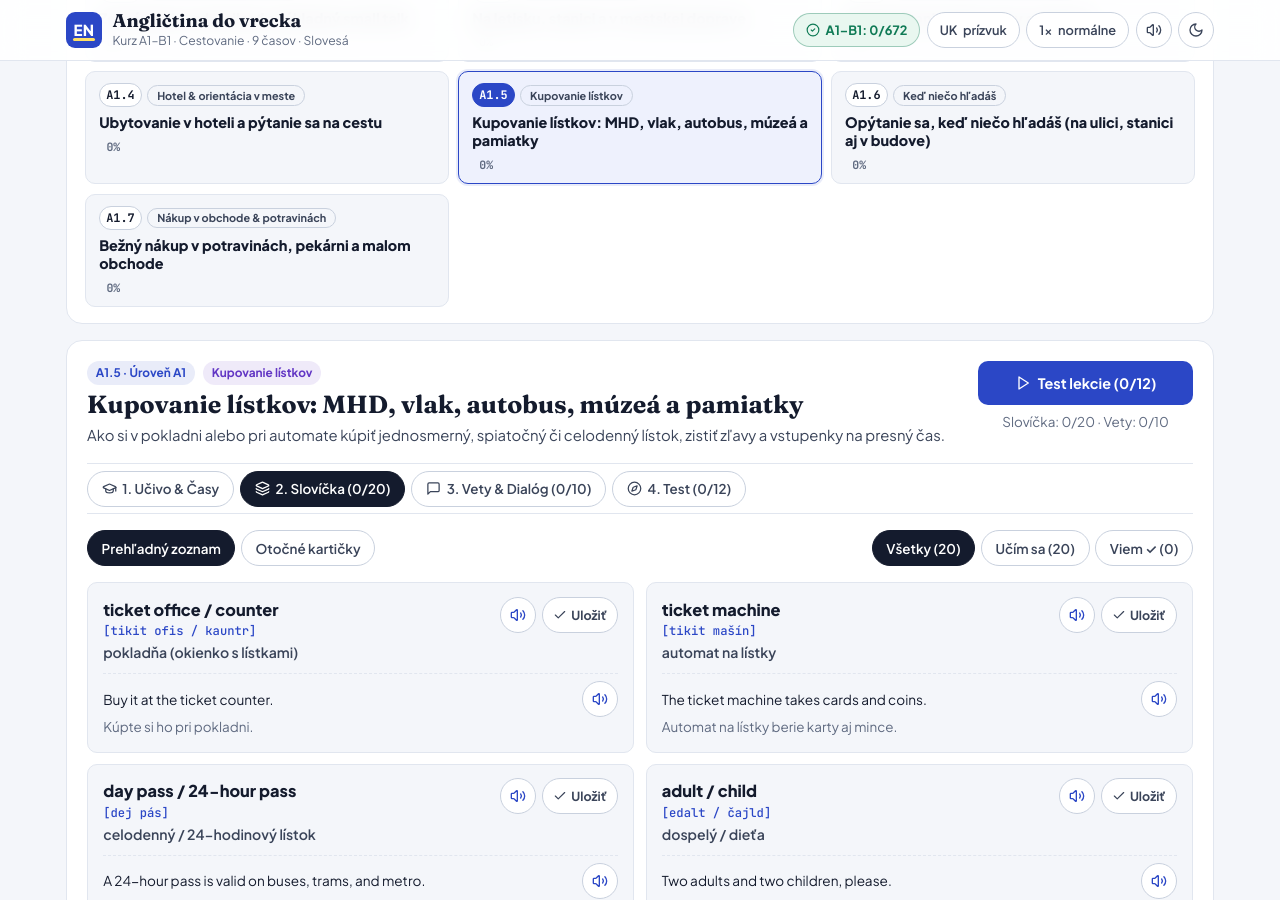
Test case: App UI Integration › updates topbar counters live across A1-B1 course, Tense tests, and persists progress in localStorage
The image size is (1280, 900).
Earlier steps of the test are not shown.
Later steps or results of the test are not shown.
(page scrolled)
Click the button "Uložiť" in the row of "ticket office / counter" at [580, 615], box [542,597,618,633]
(page scrolled)
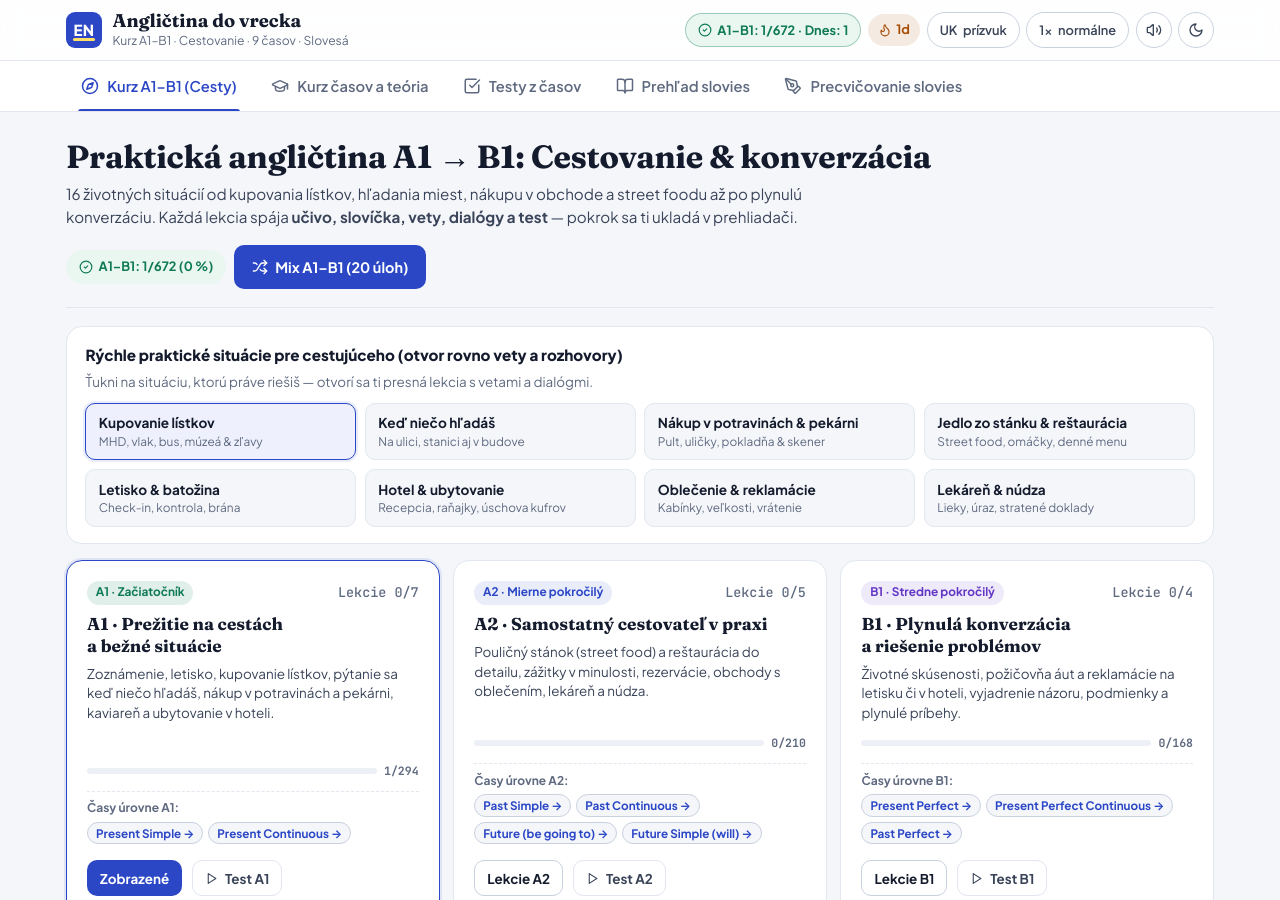
Expected: the button named "Praktický kurz A1 až B1: 1 z 672 položiek. Dnes vyriešených úloh: 1" is shown, [685,13,861,47]
Click the tab "Testy z časov" at [522, 86], box [448,61,596,111]
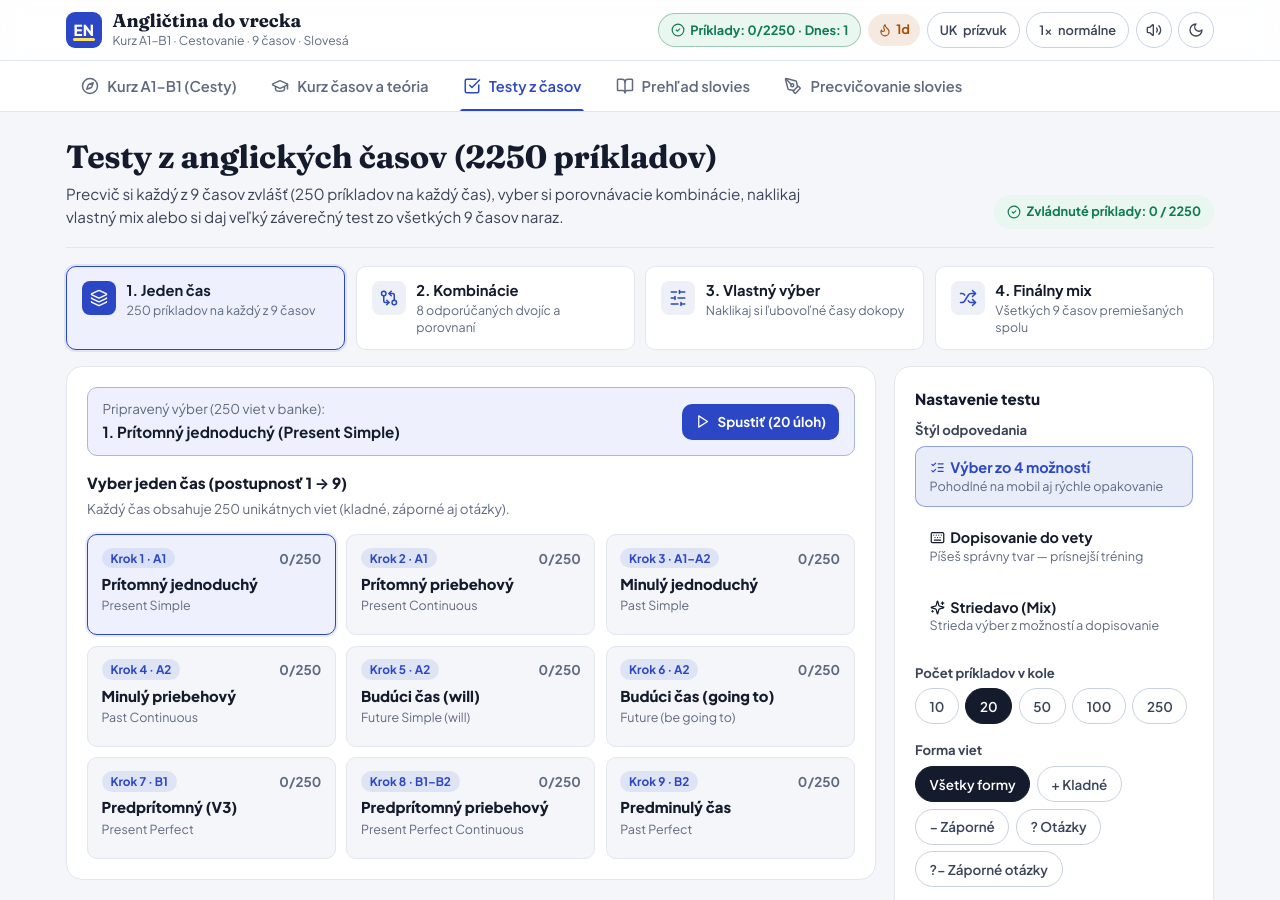
Expected: the button with aria-label "Zvládnuté príklady z časov: 0 z 2250" is shown, [658,13,861,47]
Click the button "10" at [937, 706], box [915,688,959,724]
(page scrolled)
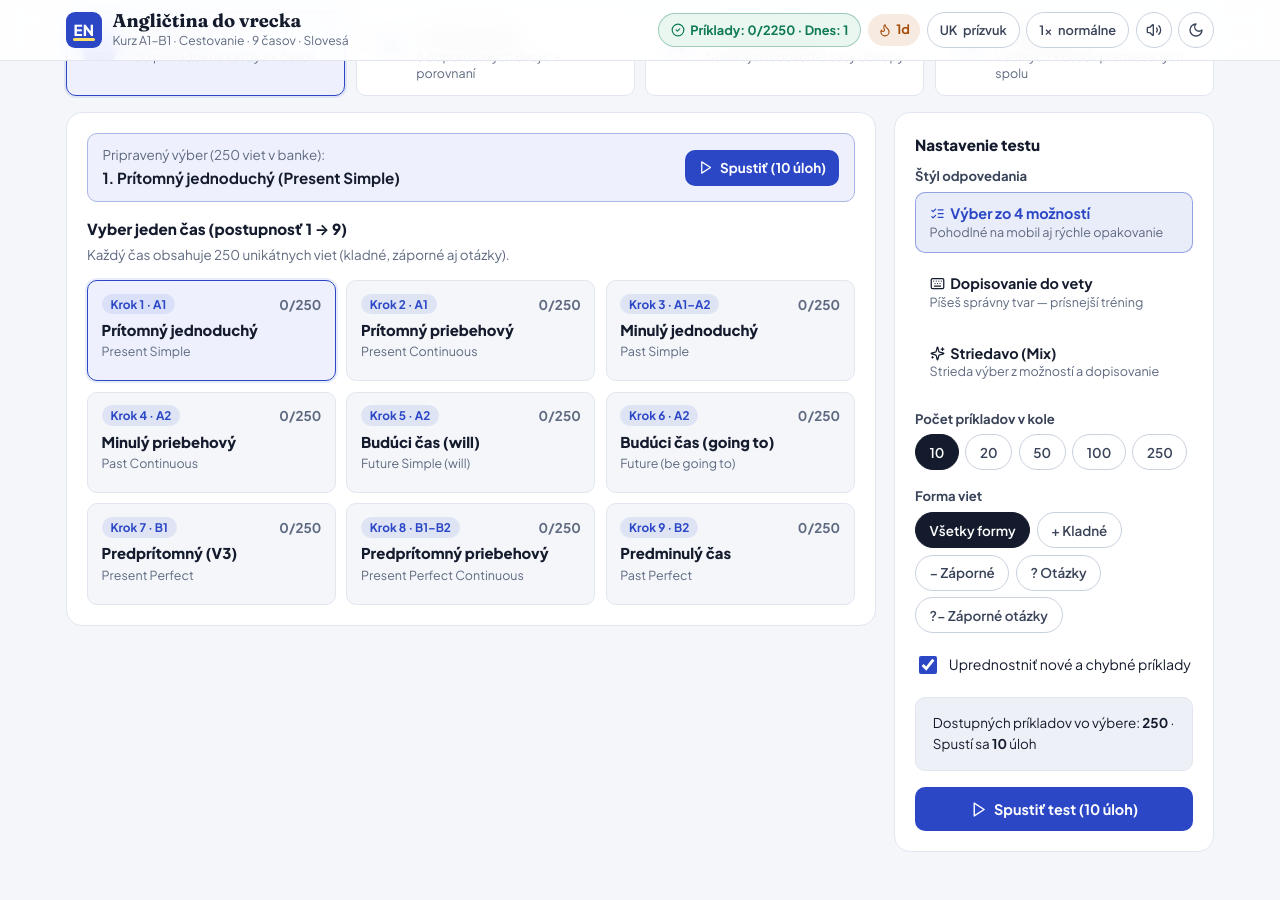
Click the button "Spustiť test (10 úloh)" at [1054, 809], box [915,787,1193,831]
(page scrolled)
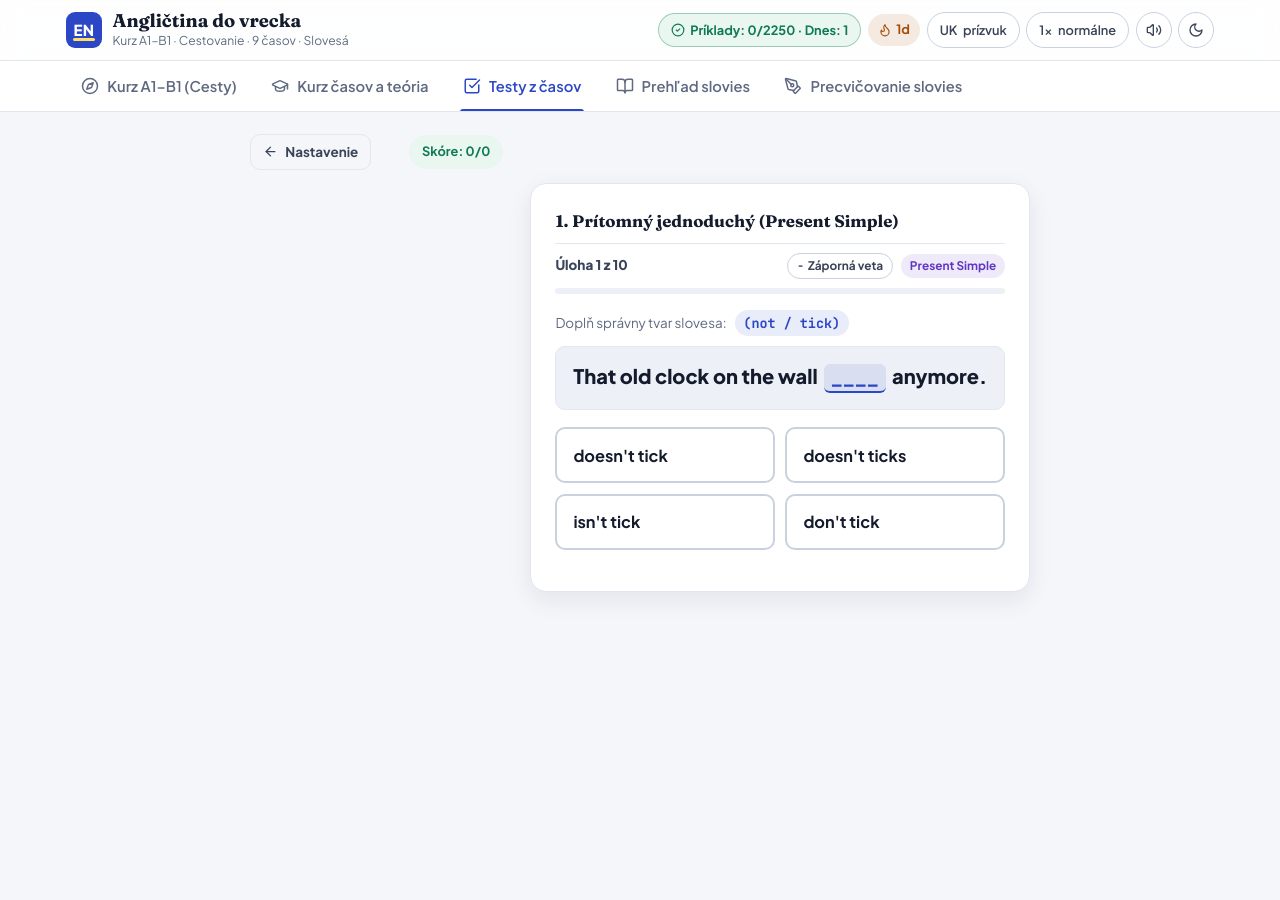
Click the button with class "choice-btn" showing "doesn't tick" at [665, 455], box [555,427,775,483]
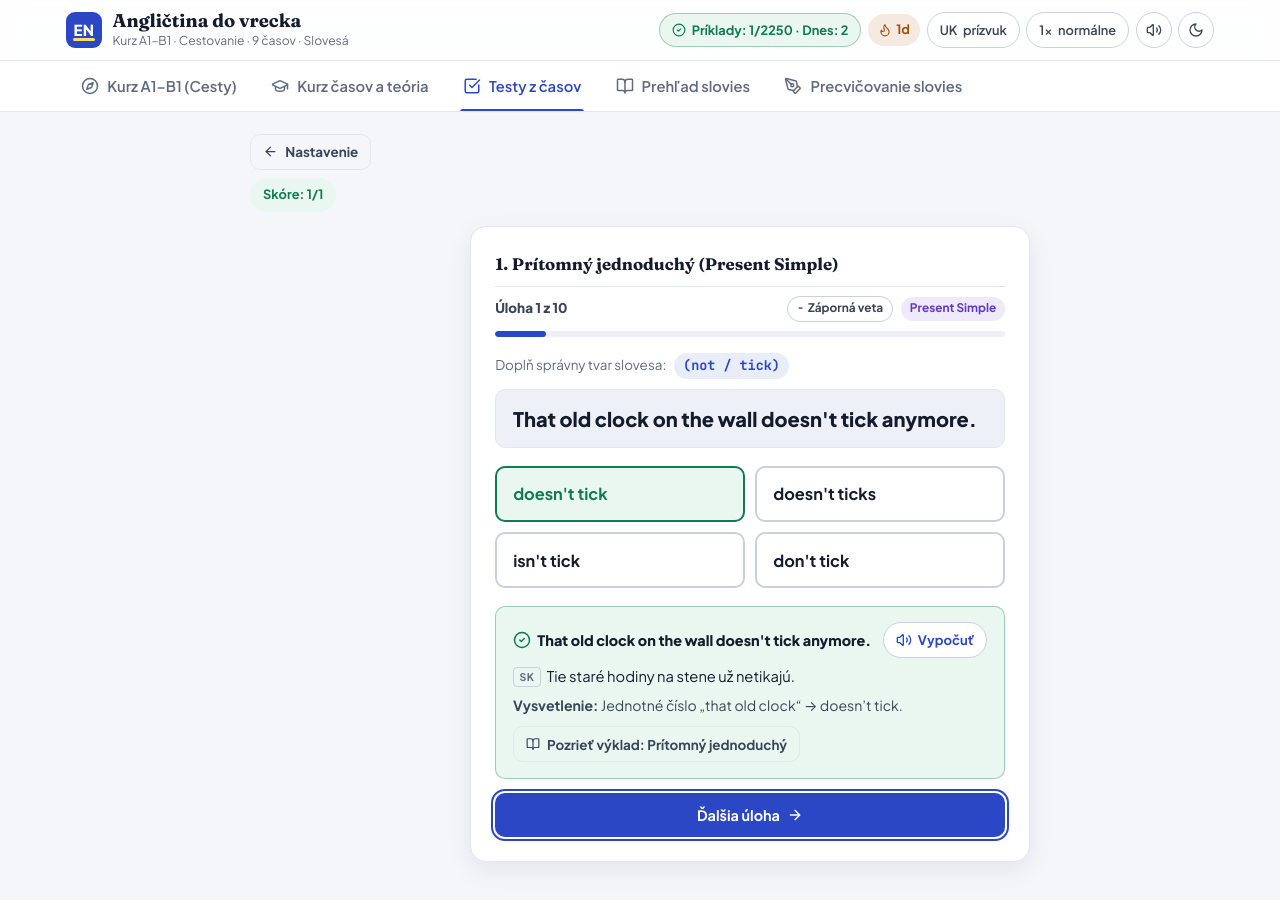
Expected: the button named "Zvládnuté príklady z časov: 1 z 2250. Dnes vyriešených úloh: 2" is shown
# Open Progress Modal from topbar pill
Click the button with aria-label "Zvládnuté príklady z časov: 1 z 2250" at [760, 30], box [659,13,861,47]
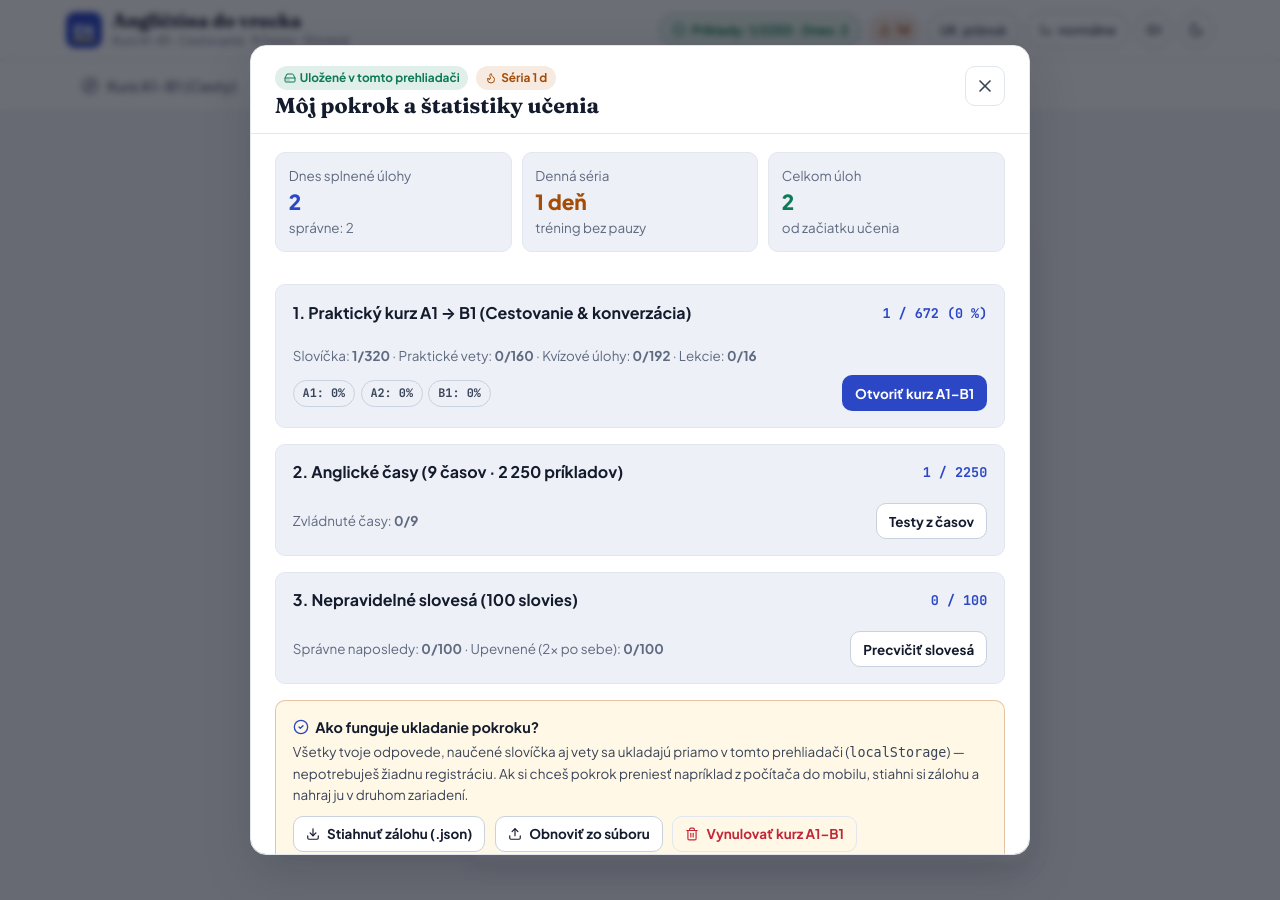
Expected: the heading "Môj pokrok a štatistiky učenia" is shown, [275,94,599,119]
Expected: the text "Uložené v tomto prehliadači" is shown, [275,66,468,90]
